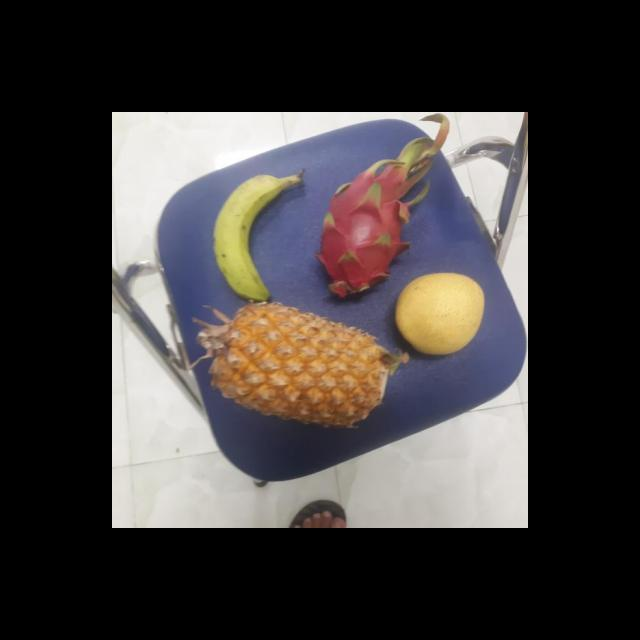banana: (208, 172, 300, 298)
pear: (390, 273, 486, 355)
pineapple: (197, 296, 397, 422)
pitaya: (312, 174, 414, 298)
